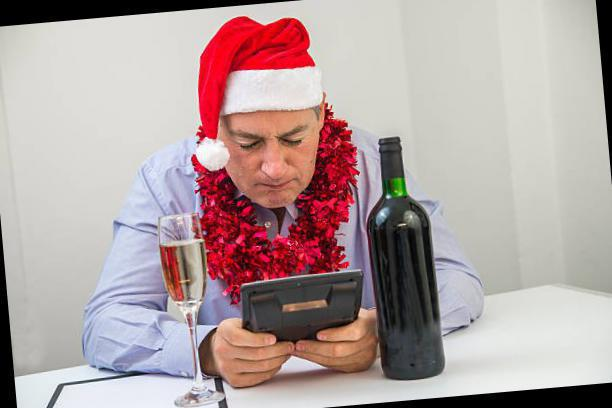Drunk: (230, 108, 318, 207)
